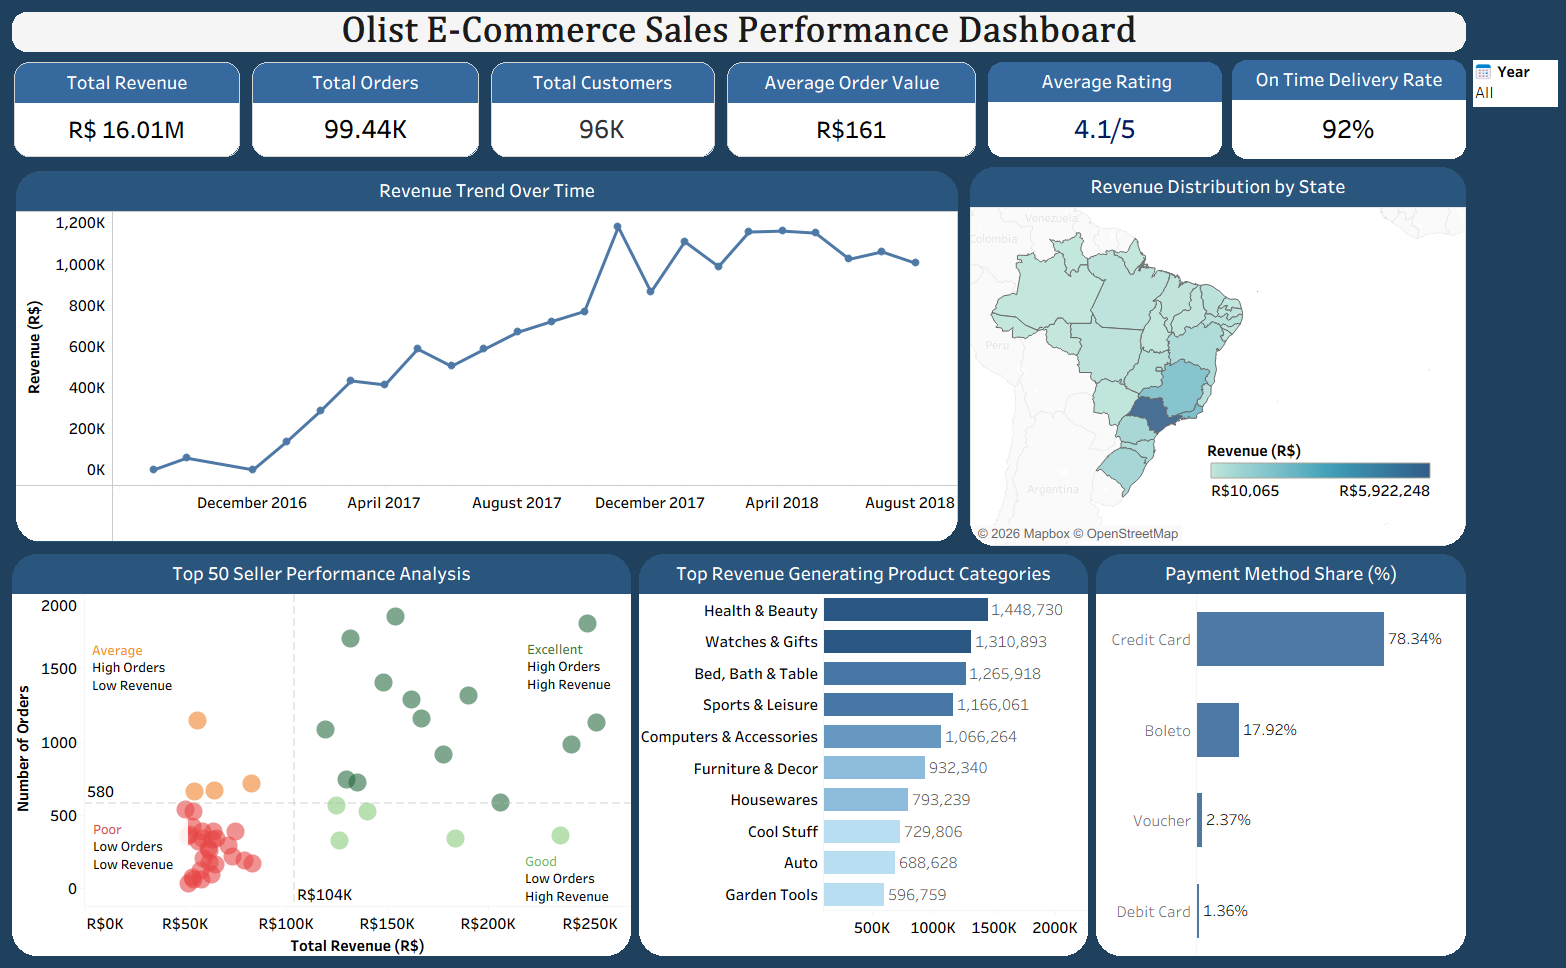

Layout of this report page (visuals, bound fields, positions):
{"tool":"tableau","page":{"name":"Sales Dashboard","canvas":[1566,999],"ordinal":0},"visuals":[{"type":"text","box":[8,8,1462,32.9]},{"type":"worksheet","title":"Total Revenue","mark":"Text","box":[8,40.9,238.5,72.7]},{"type":"worksheet","title":"Total Orders","mark":"Automatic","box":[246.5,40.9,238.6,72.7]},{"type":"worksheet","title":"Total Customers","mark":"Automatic","box":[485.1,40.9,235.5,72.7]},{"type":"worksheet","title":"Average Order Value","mark":"Automatic","box":[720.5,40.9,261.6,72.7]},{"type":"worksheet","title":" Average Rating","mark":"Automatic","box":[982.2,40.9,246,72.7]},{"type":"worksheet","title":"On Time Delivery Rate","mark":"Automatic","box":[1228.1,40.9,241.9,72.7]},{"type":"filter","title":"Revenue Trend Over Time","param":"[federated.1vhts180i5lyip13egd23008ojb0].[yr:order_purchase_timestamp:ok]","box":[1473,61.9,85,48.5]},{"type":"worksheet","title":"Revenue Trend Over Time","mark":"Line","rows":["payment_value","payment_value"],"cols":["order_purchase_timestamp"],"box":[8,113.6,957.6,264.4]},{"type":"worksheet","title":"Revenue Distribution by State","mark":"Multipolygon","box":[965.6,113.6,504.4,264.4]},{"type":"worksheet","title":"Top 50 Seller Performance Analysis","mark":"Circle","rows":["order_id"],"cols":["payment_value"],"box":[8,378,627.3,280]},{"type":"worksheet","title":"Top Revenue Generating Product Categories","mark":"Automatic","rows":["product_category_name_english"],"cols":["payment_value"],"box":[635.3,378,456.7,280]},{"type":"worksheet","title":"Payment Method Share (%)","mark":"Bar","rows":["payment_type"],"cols":["payment_value"],"box":[1092,378,378,280]},{"type":"legend","title":"Revenue Distribution by State","param":"[federated.1vhts180i5lyip13egd23008ojb0].[sum:payment_value:qk]","box":[1207,450,228,63]},{"type":"text","box":[8,658,1550,333]}]}

Visuals, with their boxes in screenshot pixels (x1, y1, x2, y2):
"Total Revenue" worksheet (Text marks): box(12, 0, 248, 47)
"Total Orders" worksheet: box(248, 0, 484, 47)
"Total Customers" worksheet: box(484, 0, 717, 47)
"Average Order Value" worksheet: box(717, 0, 976, 47)
" Average Rating" worksheet: box(976, 0, 1219, 47)
"On Time Delivery Rate" worksheet: box(1219, 0, 1458, 47)
"Revenue Trend Over Time" filter: box(1461, 0, 1545, 44)
"Revenue Trend Over Time" worksheet (Line marks): box(12, 47, 959, 309)
"Revenue Distribution by State" worksheet (Multipolygon marks): box(959, 47, 1458, 309)
"Top 50 Seller Performance Analysis" worksheet (Circle marks): box(12, 309, 633, 586)
"Top Revenue Generating Product Categories" worksheet: box(633, 309, 1084, 586)
"Payment Method Share (%)" worksheet (Bar marks): box(1084, 309, 1458, 586)
"Revenue Distribution by State" legend: box(1198, 380, 1424, 442)
text: box(12, 586, 1545, 915)
